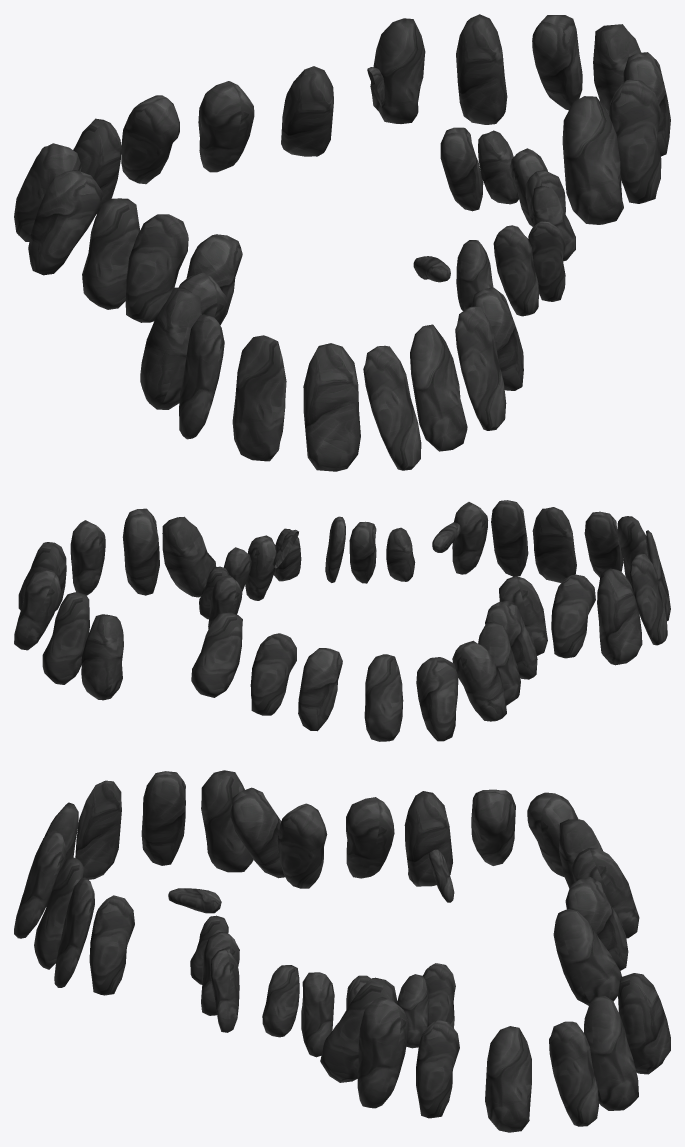
Rendered from CaveIslandWallRocksShape2.dae.
The picture shows the model from 3 angles, top to bottom: view 1: azimuth 30°, elevation 25°; view 2: azimuth 150°, elevation 25°; view 3: azimuth 270°, elevation 25°; orthographic projection. The views are drawn at different scales.
Visible parts, largest first — view 1: CaveIslandWallRocks2; view 2: CaveIslandWallRocks2; view 3: CaveIslandWallRocks2.
Part boxes in pixels (x1,y1,x2,y2): CaveIslandWallRocks2: (14,14,670,471); CaveIslandWallRocks2: (14,500,670,741); CaveIslandWallRocks2: (14,770,670,1132).
Size of the model in its own units: 299 by 83.01 by 281.
